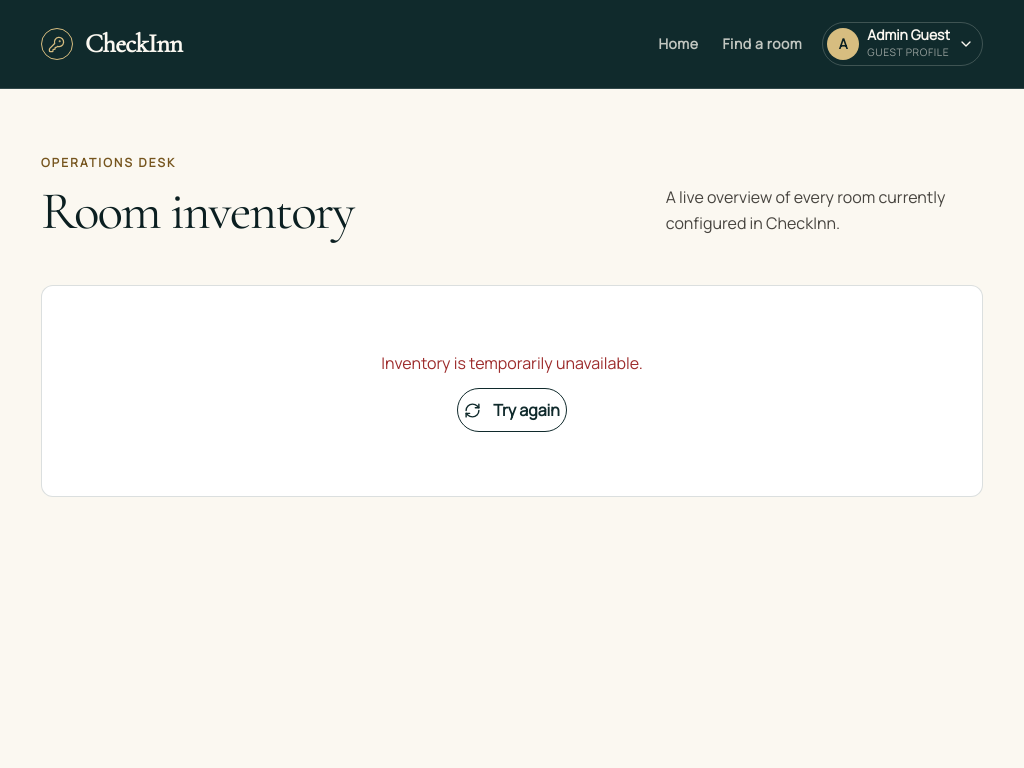
Test: admin room inventory › retries failed inventory loading without duplicating room rows
Check: the text "Inventory is temporarily unavailable." is shown, box [381, 350, 643, 376]
Click the button "Try again". click: (512, 410)
box: [457, 388, 567, 432]
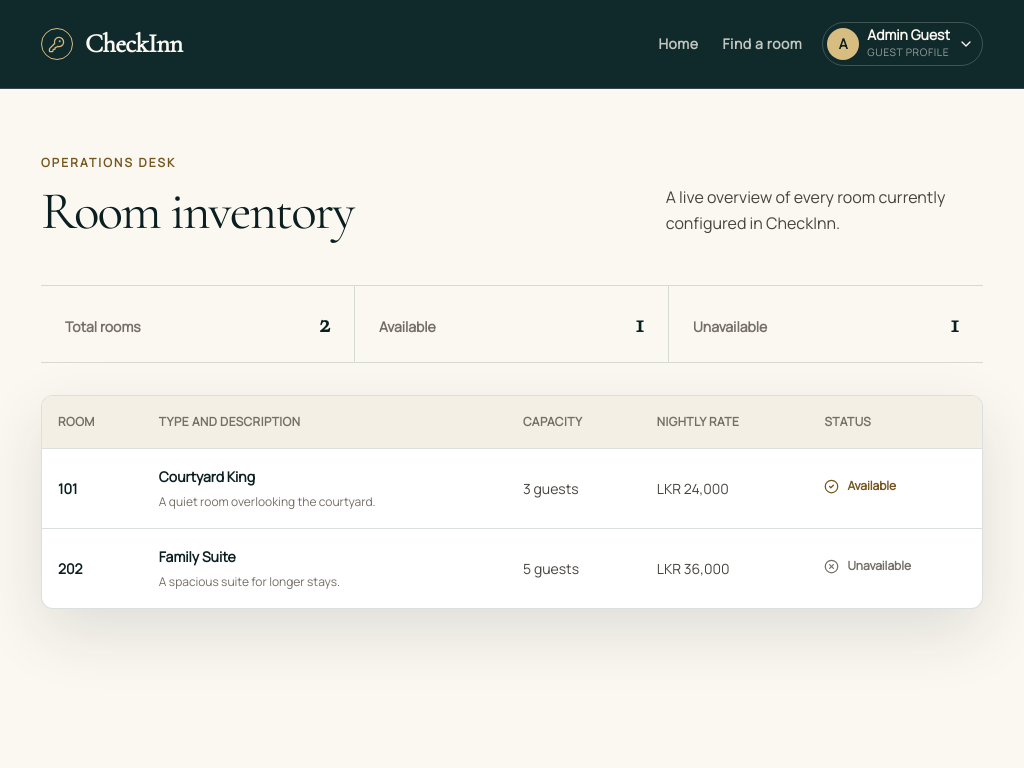
Check: the number of rows is 3, box [42, 396, 982, 448]; [42, 449, 982, 528]; [42, 528, 982, 608]
Check: the number of cells "101" is 1, box [42, 449, 143, 528]
